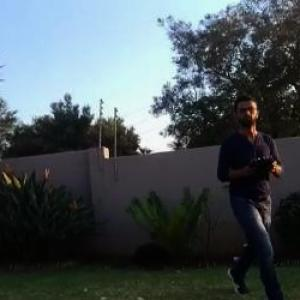follow: (212, 87, 300, 298)
